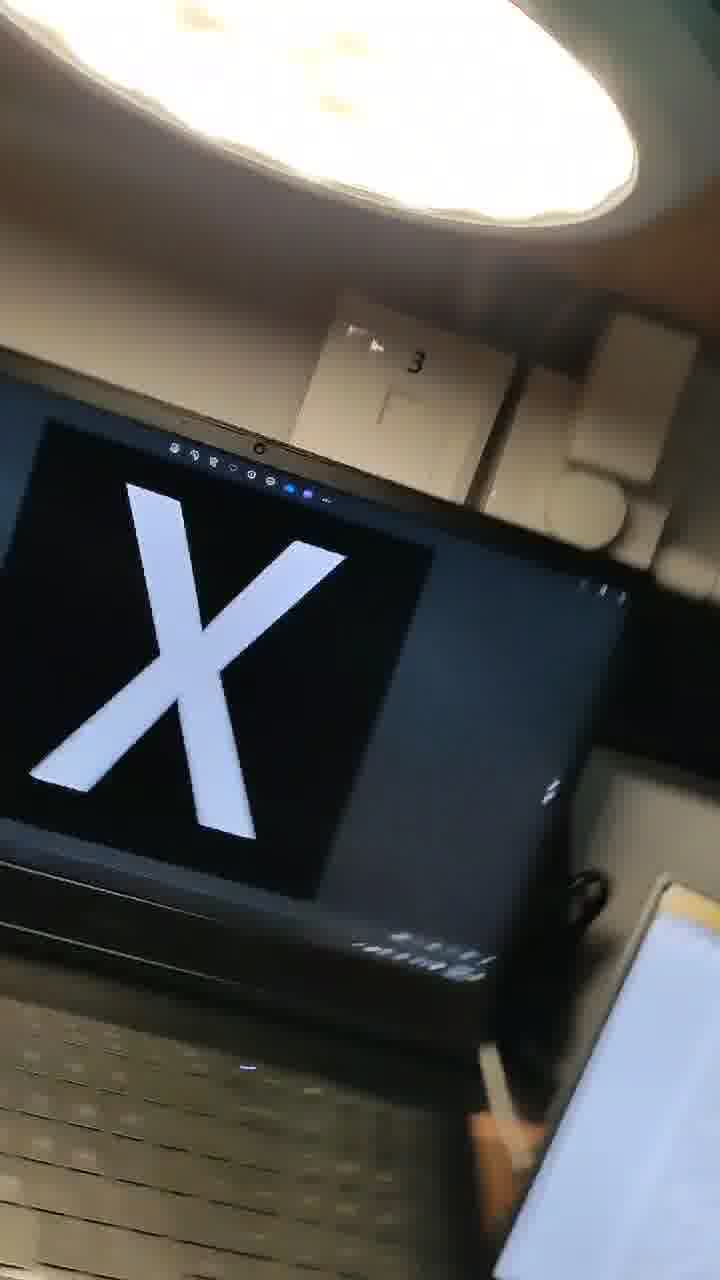X: (1, 339, 400, 915)
